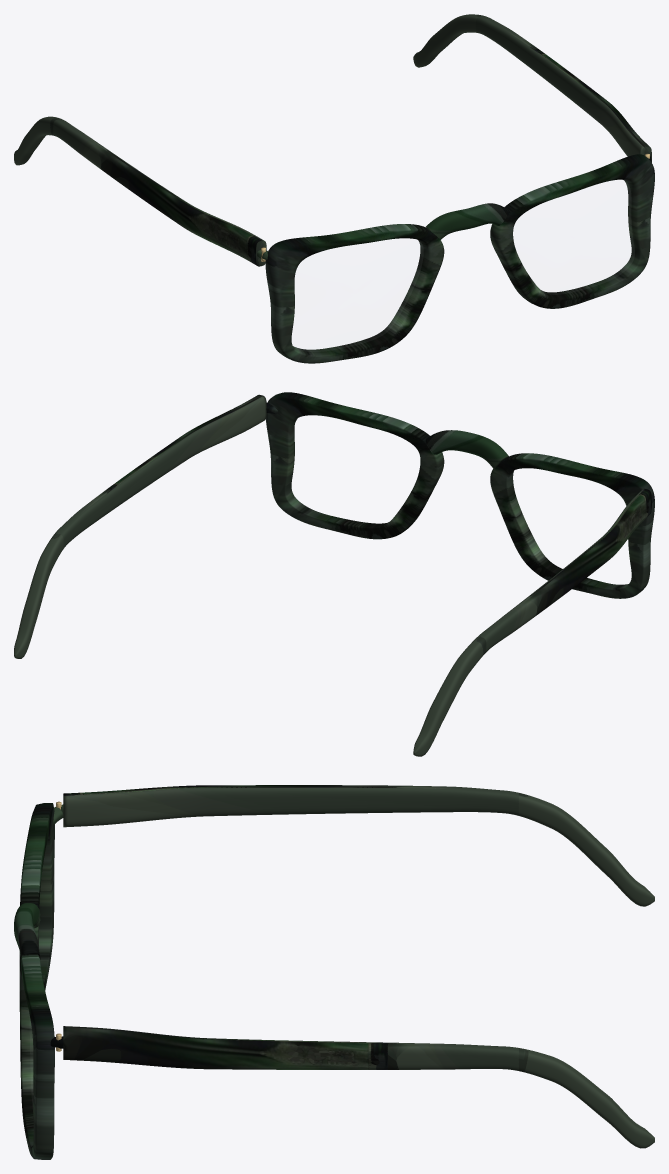
Rendered from prod-r2.glb.
The picture shows the model from 3 angles, top to bottom: view 1: azimuth 30°, elevation 25°; view 2: azimuth 150°, elevation 25°; view 3: azimuth 270°, elevation 25°; orthographic projection. The views are drawn at different scales.
Parts seen in each view (by area): view 1: Traced bevelled frame -1, Traced bevelled frame 1, Fitted temple exterior -1, Fitted temple exterior 1, Saddle nose bridge; view 2: Traced bevelled frame 1, Fitted temple exterior 1, Traced bevelled frame -1, Fitted temple exterior -1, Saddle nose bridge; view 3: Fitted temple exterior -1, Fitted temple exterior 1, Traced bevelled frame 1, Traced bevelled frame -1, Saddle nose bridge.
Part boxes in pixels (left/top/right/bottom): Traced bevelled frame -1: left=265, top=224, right=444, bottom=363; Traced bevelled frame 1: left=490, top=154, right=654, bottom=308; Fitted temple exterior -1: left=14, top=116, right=266, bottom=266; Fitted temple exterior 1: left=413, top=14, right=651, bottom=162; Saddle nose bridge: left=426, top=203, right=509, bottom=239; Traced bevelled frame 1: left=266, top=392, right=444, bottom=539; Fitted temple exterior 1: left=14, top=394, right=266, bottom=658; Traced bevelled frame -1: left=490, top=453, right=654, bottom=598; Fitted temple exterior -1: left=413, top=488, right=651, bottom=756; Saddle nose bridge: left=425, top=430, right=508, bottom=468; Fitted temple exterior -1: left=63, top=785, right=654, bottom=906; Fitted temple exterior 1: left=63, top=1026, right=654, bottom=1148; Traced bevelled frame 1: left=19, top=954, right=54, bottom=1159; Traced bevelled frame -1: left=19, top=803, right=54, bottom=990; Saddle nose bridge: left=14, top=903, right=40, bottom=959.
Size of the model in its own units: 0.1443 by 0.04 by 0.1484.
Materials: 5 (3 with a texture image).
